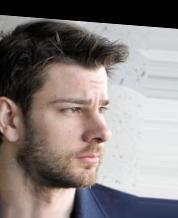face: (52, 96, 110, 166)
